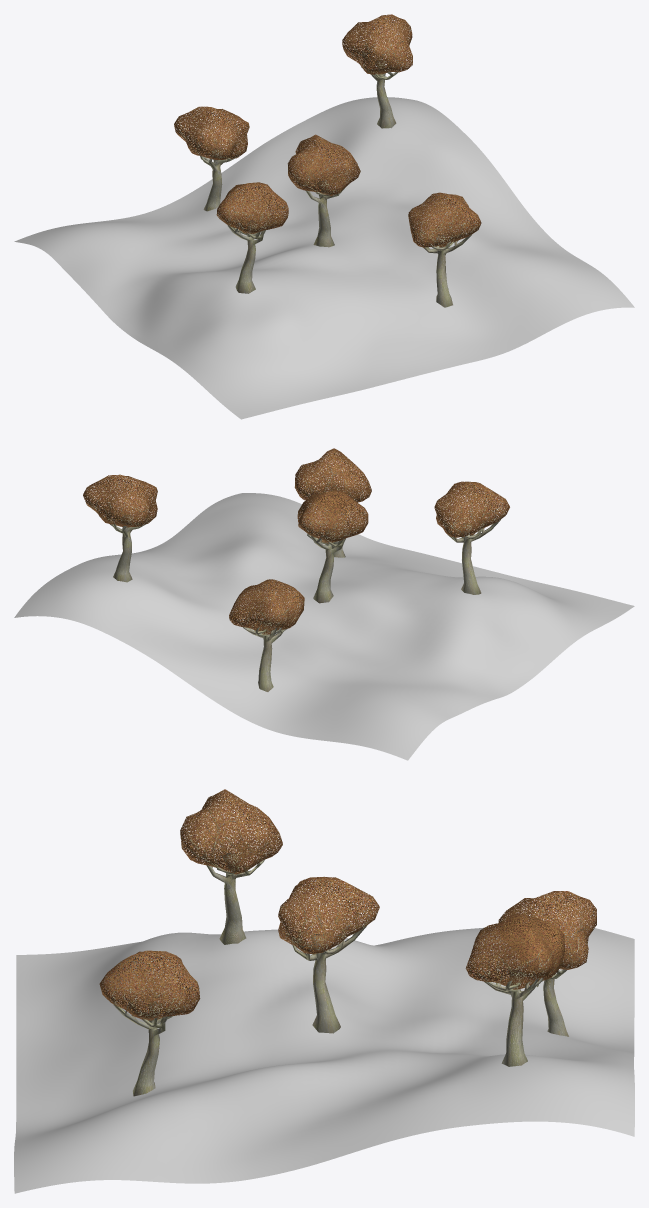
The model's file is Landscape.fbx.
3 views of the same model, one above another, from view 1: azimuth 30°, elevation 25°; view 2: azimuth 150°, elevation 25°; view 3: azimuth 270°, elevation 25° (orthographic). The views are drawn at different scales.
Visible parts, largest first — view 1: Grass, Leaves.001, Leaves, Leaves.002, Leaves.003, Leaves.004, Trunk.003, Trunk.004, Trunk.001, Trunk, Trunk.002; view 2: Grass, Leaves.001, Leaves.002, Leaves.004, Leaves, Leaves.003, Trunk.004, Trunk, Trunk.002, Trunk.001; view 3: Grass, Leaves.004, Leaves, Leaves.001, Leaves.003, Leaves.002, Trunk, Trunk.001, Trunk.004, Trunk.003, Trunk.002.
Boxes of the visible parts, bbox=[...] form: Grass: bbox=[14, 97, 634, 419]; Leaves.001: bbox=[342, 14, 412, 74]; Leaves: bbox=[287, 134, 360, 195]; Leaves.002: bbox=[174, 106, 249, 159]; Leaves.003: bbox=[408, 192, 481, 247]; Leaves.004: bbox=[216, 182, 288, 234]; Trunk.003: bbox=[417, 214, 477, 307]; Trunk.004: bbox=[224, 209, 279, 293]; Trunk.001: bbox=[351, 29, 407, 128]; Trunk: bbox=[293, 151, 352, 247]; Trunk.002: bbox=[179, 129, 240, 211]; Grass: bbox=[14, 493, 634, 760]; Leaves.001: bbox=[83, 474, 157, 527]; Leaves.002: bbox=[229, 579, 304, 634]; Leaves.004: bbox=[434, 481, 509, 537]; Leaves: bbox=[297, 490, 368, 543]; Leaves.003: bbox=[294, 448, 371, 510]; Trunk.004: bbox=[442, 503, 505, 594]; Trunk: bbox=[303, 520, 359, 603]; Trunk.002: bbox=[237, 607, 296, 691]; Trunk.001: bbox=[89, 499, 151, 582]; Grass: bbox=[14, 922, 634, 1193]; Leaves.004: bbox=[180, 789, 282, 874]; Leaves: bbox=[278, 876, 379, 954]; Leaves.001: bbox=[465, 913, 564, 989]; Leaves.003: bbox=[99, 950, 200, 1020]; Leaves.002: bbox=[498, 891, 596, 970]; Trunk: bbox=[286, 906, 373, 1033]; Trunk.001: bbox=[477, 949, 556, 1066]; Trunk.004: bbox=[190, 810, 271, 944]; Trunk.003: bbox=[112, 985, 187, 1096]; Trunk.002: bbox=[513, 911, 586, 1036].
Bounding box in the file's own units: 11156 × 5012 × 11093.
